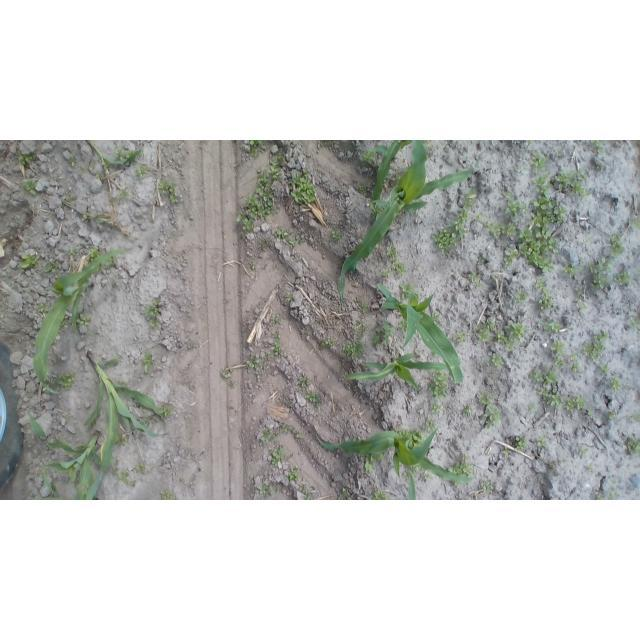Maize: (335, 141, 476, 304), (33, 249, 131, 393), (84, 348, 167, 500), (313, 423, 475, 481), (375, 282, 463, 387), (26, 412, 103, 500), (345, 354, 446, 391), (372, 141, 412, 200), (84, 140, 144, 172), (405, 473, 417, 500)
Weeds: (518, 225, 558, 273), (248, 170, 275, 218), (531, 195, 566, 226), (555, 170, 590, 200), (433, 224, 466, 254), (478, 215, 517, 238), (583, 329, 608, 361), (480, 392, 501, 429), (292, 175, 316, 205), (503, 189, 527, 217), (372, 320, 395, 349), (457, 187, 474, 223), (448, 454, 472, 476), (429, 371, 448, 397), (147, 297, 162, 327), (343, 340, 366, 358), (590, 256, 613, 274), (159, 181, 177, 203), (539, 390, 562, 407), (269, 152, 282, 182), (236, 213, 254, 234), (532, 174, 552, 192), (91, 210, 114, 225), (405, 429, 424, 447), (530, 153, 546, 174), (564, 395, 584, 411), (361, 146, 377, 165), (539, 289, 553, 310), (271, 446, 285, 466), (58, 373, 75, 389), (509, 323, 525, 340), (20, 253, 37, 269), (281, 422, 299, 437), (19, 151, 38, 165), (611, 233, 625, 251), (615, 272, 631, 287), (551, 339, 566, 355), (271, 332, 281, 356), (141, 415, 159, 428), (386, 244, 399, 262), (529, 368, 543, 384), (62, 187, 76, 203), (594, 272, 607, 289), (515, 289, 528, 306), (143, 351, 153, 373), (392, 263, 406, 278), (400, 282, 413, 298), (331, 228, 344, 244), (506, 248, 518, 265), (314, 140, 334, 150), (110, 458, 121, 476), (549, 320, 563, 334), (467, 272, 481, 286), (132, 163, 146, 177), (292, 231, 306, 245), (545, 371, 558, 386), (261, 430, 276, 443), (562, 264, 578, 276), (490, 354, 504, 367), (514, 436, 527, 450), (77, 314, 91, 327), (269, 313, 283, 326), (589, 140, 604, 152), (24, 180, 36, 195), (250, 141, 262, 156), (502, 444, 513, 460), (627, 438, 638, 454), (259, 238, 272, 251), (316, 342, 329, 355), (248, 355, 260, 369), (480, 480, 494, 492), (377, 266, 391, 278), (162, 489, 177, 500), (608, 377, 621, 389), (539, 318, 551, 331), (535, 277, 548, 289), (136, 461, 147, 475), (627, 315, 638, 329), (353, 322, 367, 333), (365, 459, 375, 474), (46, 261, 61, 271), (430, 402, 442, 414), (373, 491, 389, 500), (118, 187, 130, 199), (496, 331, 507, 344), (463, 404, 474, 417), (117, 431, 126, 446), (89, 248, 100, 260), (261, 484, 272, 496), (161, 404, 172, 416), (119, 472, 130, 484), (479, 328, 490, 340), (305, 392, 317, 403), (527, 402, 537, 415), (455, 333, 466, 344), (584, 464, 596, 474), (593, 157, 603, 169), (425, 418, 435, 430), (36, 302, 48, 312), (628, 217, 638, 229), (598, 364, 611, 373), (569, 364, 582, 373), (360, 302, 368, 316), (485, 321, 495, 332), (299, 377, 310, 387), (358, 184, 369, 194), (275, 230, 287, 239), (341, 487, 350, 499), (80, 211, 89, 223), (115, 146, 122, 161), (301, 485, 311, 495), (569, 351, 579, 361), (288, 470, 298, 480), (554, 358, 564, 368), (411, 262, 421, 272), (67, 247, 77, 257), (506, 340, 515, 351), (222, 369, 233, 378), (609, 491, 620, 499), (578, 446, 586, 457), (398, 320, 406, 331), (68, 156, 76, 167), (288, 239, 296, 250), (538, 438, 547, 447), (432, 311, 440, 321), (229, 379, 237, 389), (596, 493, 607, 500), (475, 257, 486, 264), (579, 260, 586, 271), (95, 170, 102, 181), (586, 407, 594, 416), (264, 350, 273, 358), (326, 338, 335, 346), (409, 465, 419, 472), (251, 261, 258, 271), (577, 305, 588, 311), (578, 286, 584, 297), (607, 411, 615, 419), (102, 161, 109, 170), (126, 149, 133, 157), (631, 414, 638, 422), (286, 293, 292, 302), (255, 371, 264, 377), (355, 296, 361, 304), (263, 361, 268, 370), (129, 479, 135, 486), (223, 299, 230, 305), (303, 496, 312, 500), (612, 479, 617, 486), (79, 166, 84, 172), (576, 296, 581, 302), (145, 499, 151, 500)
